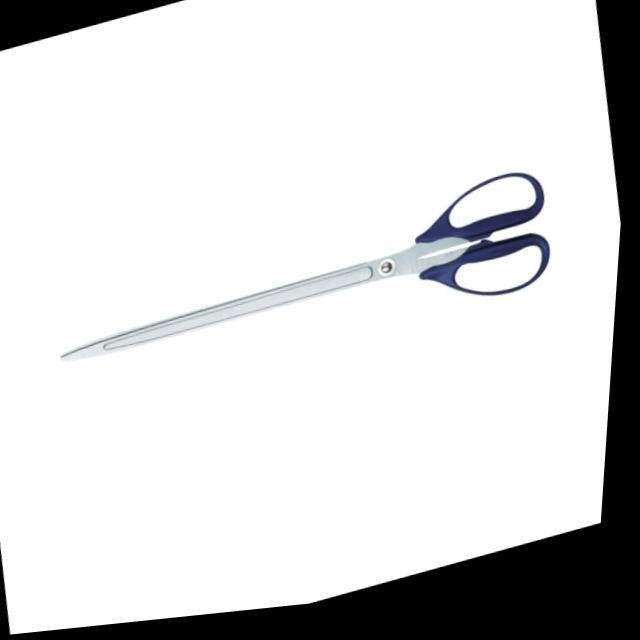scissor: (51, 169, 573, 425)
